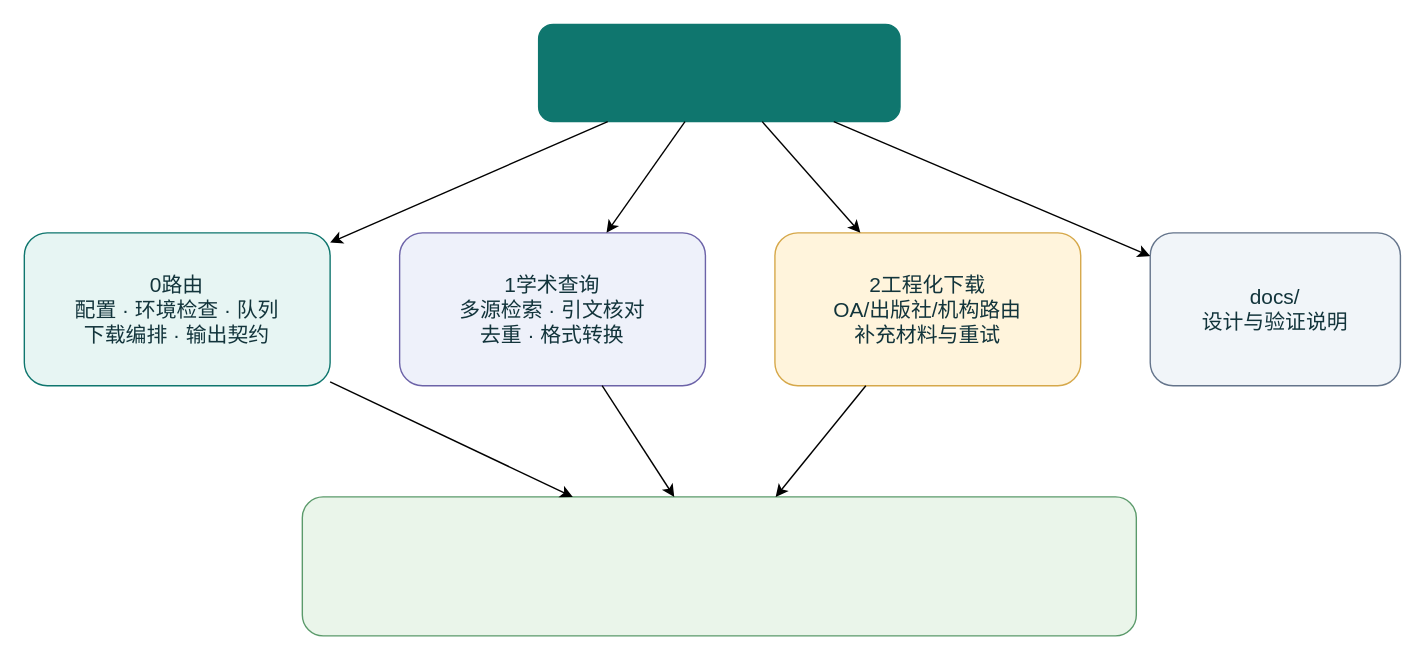
This 1425x660 diagram has some shape labels left out. Here are the shapes that lost their labels. From the top down, the box of each, then its label:
(537, 23, 900, 122): PaperForge Agent Skill
(301, 496, 1136, 636): SKILL.md · README.md .codex-plugin/ · NOTICE PROVENANCE.json · workspace/（运行时）
